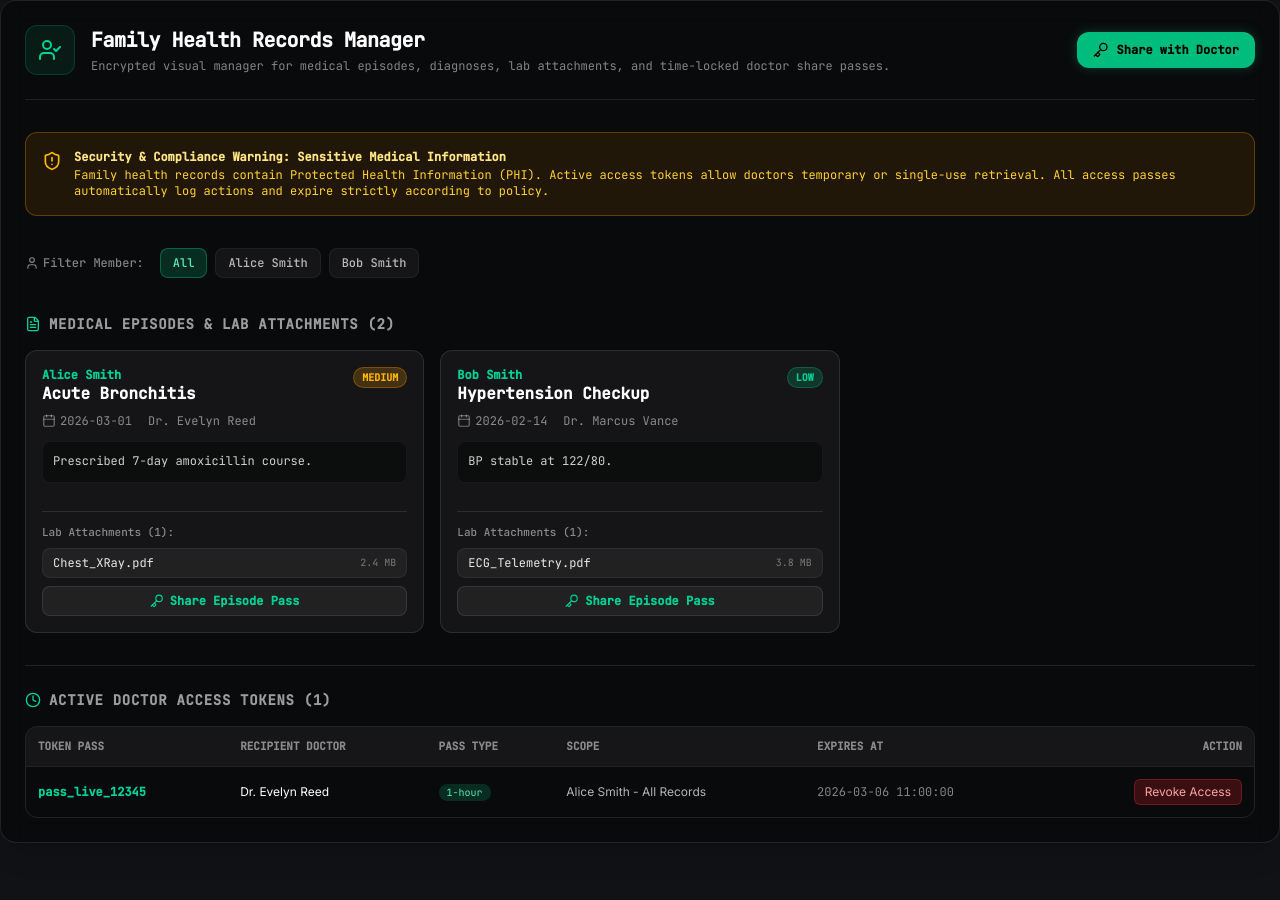
Scenario: FamilyHealthRecords Component › opens share modal with security warning notice
Click the button "Share with Doctor": (1166,50) [1077,32,1255,68]
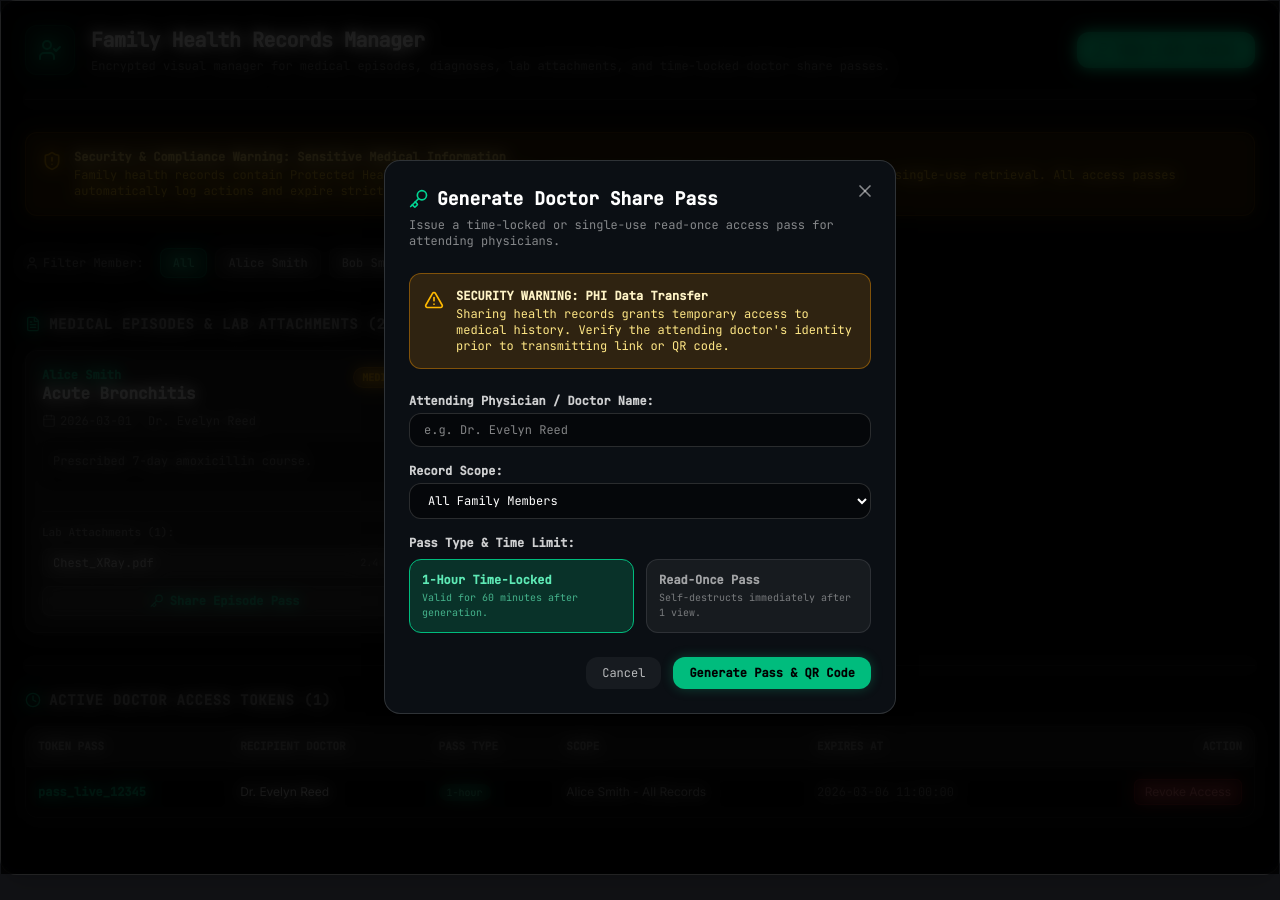
Check: the heading "Generate Doctor Share Pass" is shown, box [409,187,718,210]
Check: the text "SECURITY WARNING: PHI Data Transfer" is shown, box [456,288,708,304]
Check: the field labelled "Attending Physician / Doctor Name:" is shown, box [409,413,871,447]
